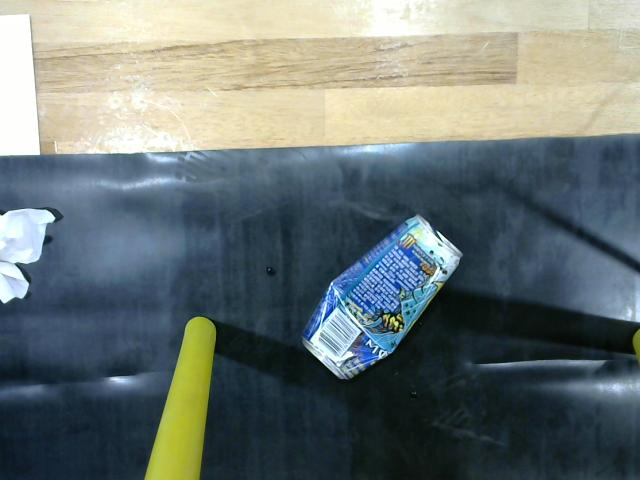can: (291, 202, 479, 391)
